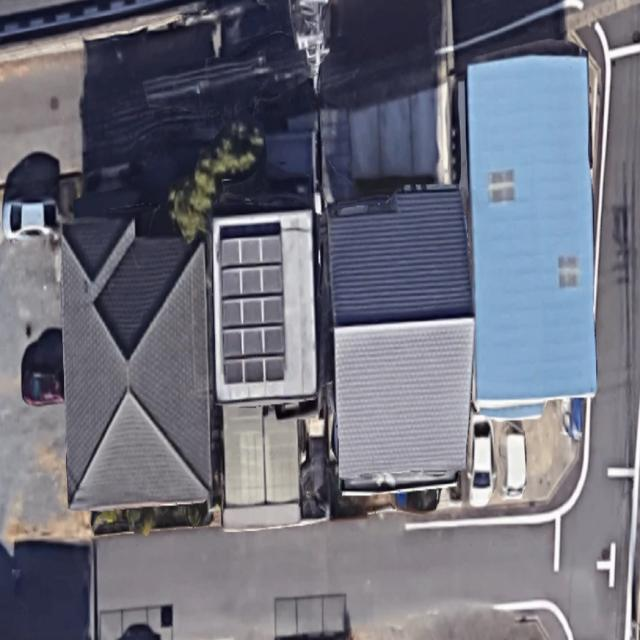Batiment: (466, 54, 596, 409), (328, 187, 474, 488), (61, 218, 210, 509), (212, 210, 316, 403)
